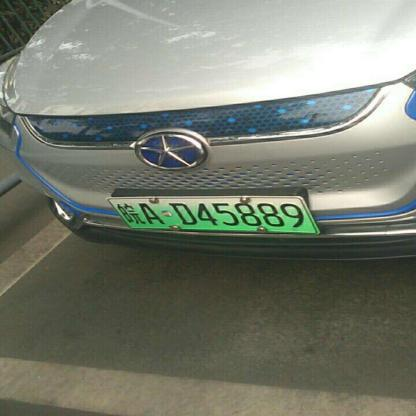lp: (108, 198, 317, 232)
